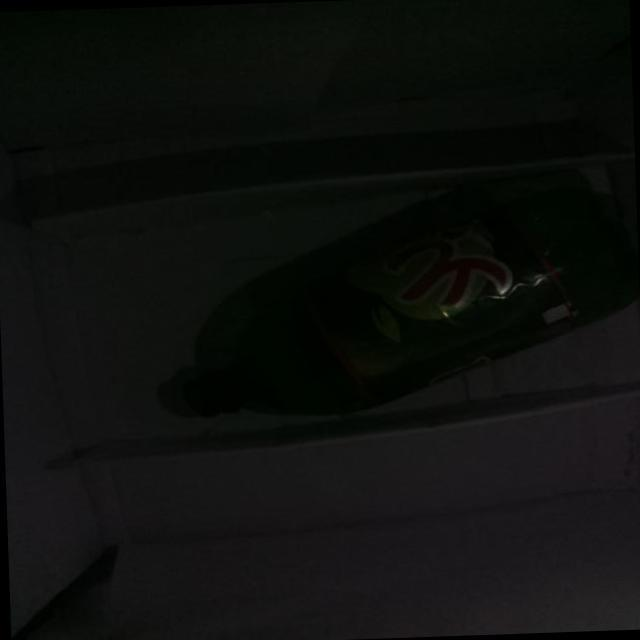good: (126, 148, 640, 449)
